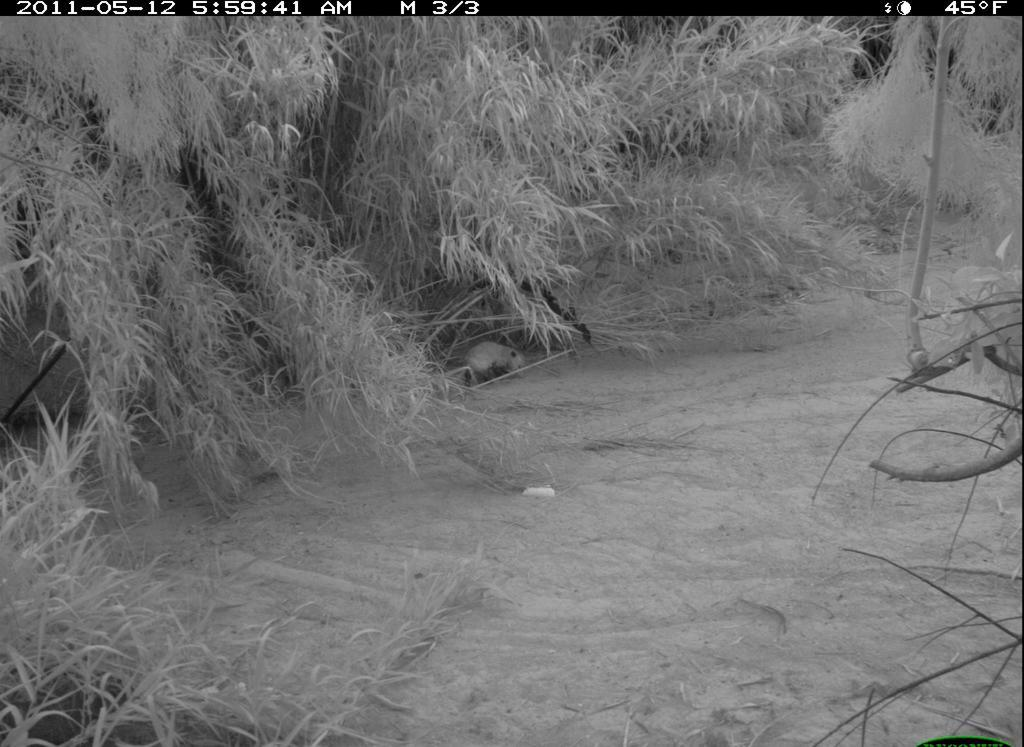opossum: (436, 329, 538, 396)
